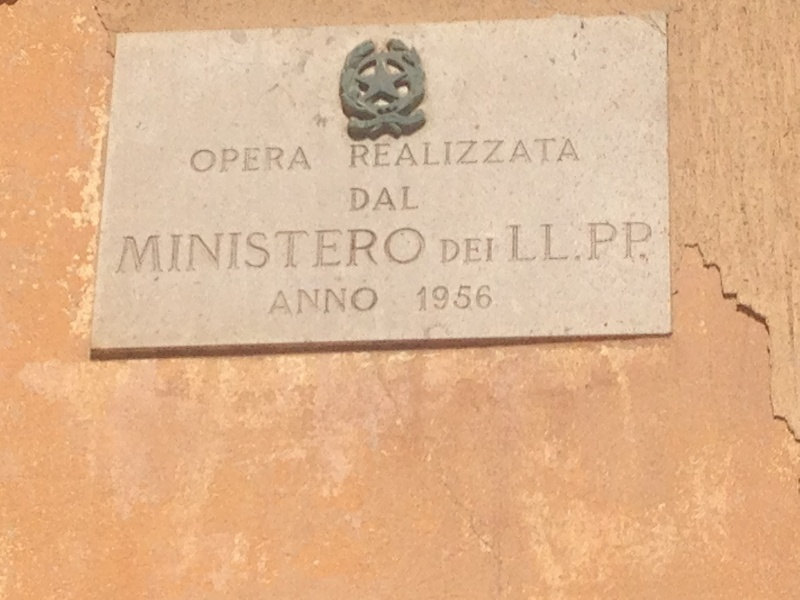text: (129, 225, 144, 276), (145, 225, 160, 276), (161, 225, 176, 276), (177, 225, 192, 276), (193, 225, 208, 276), (209, 225, 224, 276), (225, 225, 240, 276), (241, 225, 256, 276), (257, 225, 272, 276), (273, 225, 288, 276), (289, 225, 304, 276), (305, 225, 320, 276), (321, 225, 336, 276), (337, 225, 352, 276), (353, 225, 368, 276), (369, 225, 384, 276), (385, 225, 400, 276), (401, 225, 416, 276), (513, 219, 528, 264), (529, 219, 544, 264), (545, 219, 560, 264), (561, 219, 576, 264), (577, 219, 592, 264), (593, 219, 608, 264), (609, 219, 624, 264), (625, 219, 640, 264), (353, 134, 368, 170), (369, 134, 384, 170), (385, 134, 400, 170), (401, 134, 416, 170), (417, 134, 432, 170), (433, 134, 448, 170), (449, 134, 464, 170), (465, 134, 480, 170), (481, 134, 496, 170), (497, 134, 512, 170), (513, 134, 528, 170), (529, 134, 544, 170), (545, 134, 560, 170), (561, 134, 576, 170), (641, 219, 653, 264), (193, 145, 208, 176), (209, 145, 224, 176), (225, 145, 240, 176), (241, 145, 256, 176), (257, 145, 272, 176), (273, 145, 288, 176), (289, 145, 304, 176), (289, 286, 304, 317), (305, 286, 320, 317), (321, 286, 336, 317), (337, 286, 352, 317), (353, 286, 368, 317), (417, 225, 426, 276), (353, 184, 368, 214), (369, 184, 384, 214), (385, 184, 400, 214), (401, 184, 416, 214), (417, 282, 432, 312), (433, 282, 448, 312), (449, 282, 464, 312), (465, 282, 480, 312), (449, 237, 464, 265), (465, 237, 480, 265), (481, 237, 494, 265), (481, 282, 493, 312), (278, 286, 288, 317), (369, 286, 379, 317), (305, 145, 314, 176), (506, 219, 512, 264), (439, 237, 448, 265), (577, 134, 583, 170), (124, 225, 128, 276), (417, 184, 422, 214), (350, 134, 352, 170), (190, 145, 192, 176), (350, 184, 352, 214)
